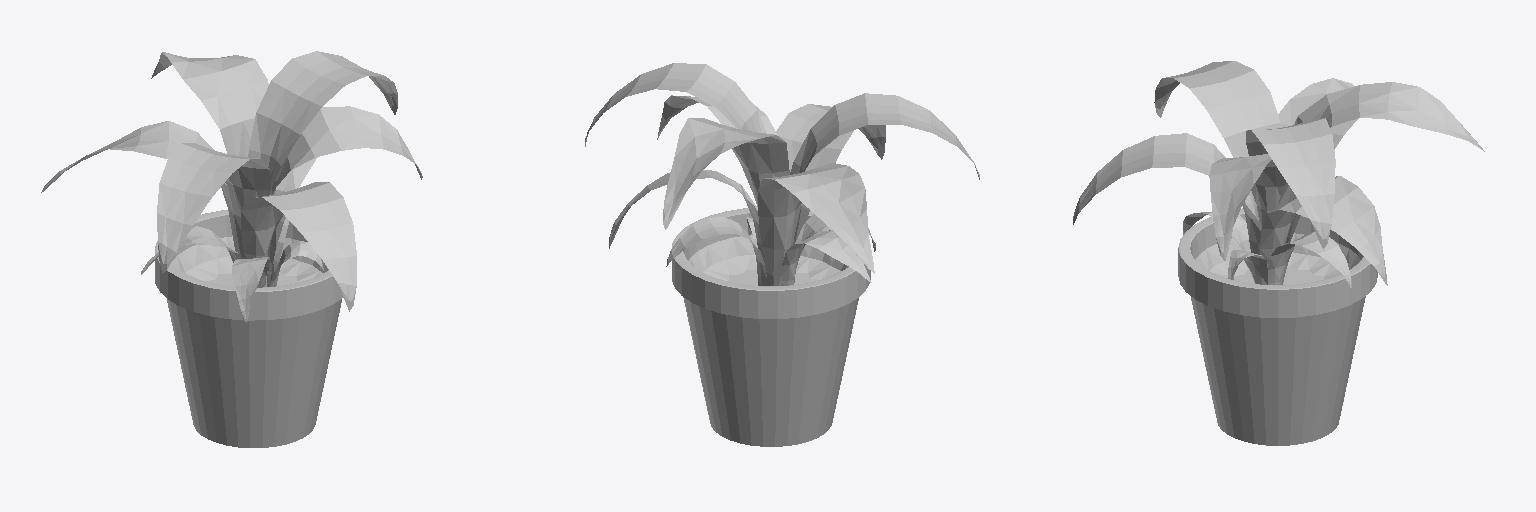
File: plant.obj
3 renders of one model, left to right at view 1: azimuth 30°, elevation 25°; view 2: azimuth 150°, elevation 25°; view 3: azimuth 270°, elevation 25°, orthographic.
Parts seen in each view (by area): view 1: leaf_Plane.010, maceta_Cylinder; view 2: leaf_Plane.010, maceta_Cylinder; view 3: leaf_Plane.010, maceta_Cylinder.
Boxes of the visible parts, x1=… form: leaf_Plane.010: x1=41, y1=51, x2=422, y2=322; maceta_Cylinder: x1=155, y1=210, x2=343, y2=447; leaf_Plane.010: x1=585, y1=63, x2=979, y2=285; maceta_Cylinder: x1=672, y1=208, x2=870, y2=446; leaf_Plane.010: x1=1073, y1=61, x2=1484, y2=287; maceta_Cylinder: x1=1178, y1=208, x2=1377, y2=445.
Size of the model in its own units: 0.5866 by 0.5777 by 0.6523.